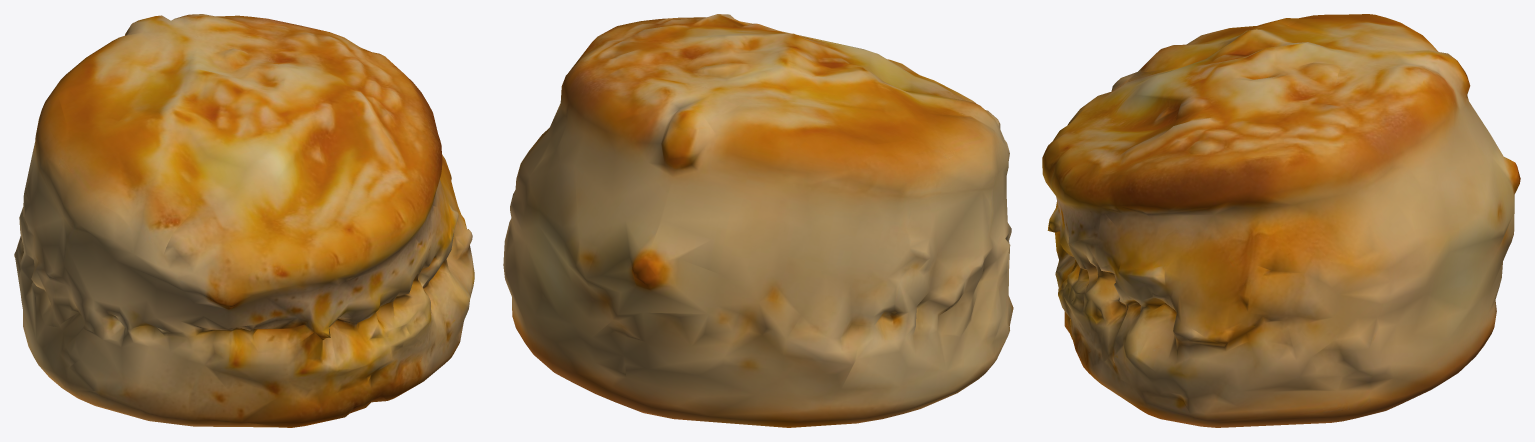
File: scone-optimized.glb
3 views of the same model, side by side, from view 1: azimuth 30°, elevation 25°; view 2: azimuth 150°, elevation 25°; view 3: azimuth 270°, elevation 25° (orthographic). The views are drawn at different scales.
Parts seen in each view (by area): view 1: Scone; view 2: Scone; view 3: Scone.
Part boxes in pixels (<box>): Scone: <box>14,14,474,427</box>; Scone: <box>503,14,1013,427</box>; Scone: <box>1042,14,1520,427</box>.
Size of the model in its own units: 0.0498 by 0.0343 by 0.0507.
Materials: 1 (1 with a texture image).
